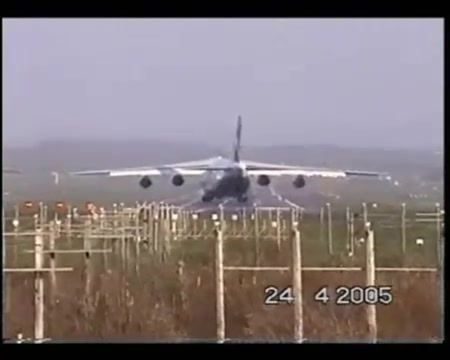aeroplane: (75, 116, 381, 205)
